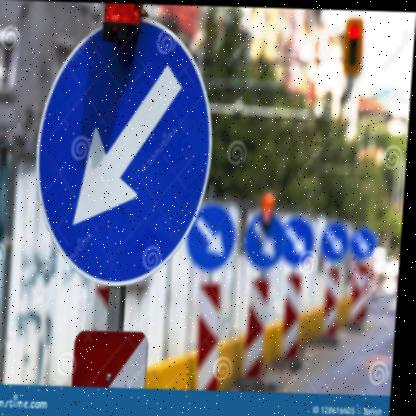Keep left: (32, 17, 221, 281)
Keep right: (189, 201, 239, 270), (247, 209, 288, 264), (285, 215, 323, 261), (322, 222, 355, 264), (355, 224, 380, 258)
